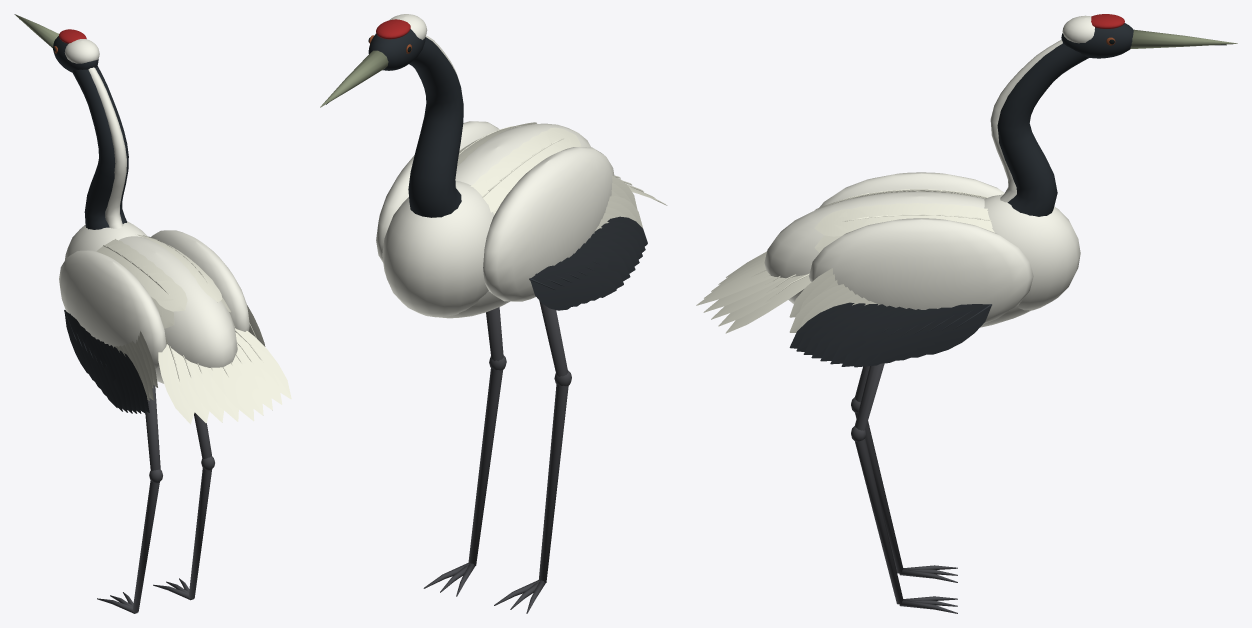
File: crane-standing.glb
The picture shows the model from 3 angles, left to right: view 1: azimuth 30°, elevation 25°; view 2: azimuth 150°, elevation 25°; view 3: azimuth 270°, elevation 25°; orthographic projection. The views are drawn at different scales.
Parts seen in each view (by area): view 1: Body.001_FeatherIvory, Body.001_CraneWhite, Shoulder_L.001_CraneWhite, Body.001_CraneLeg, Body.001_CraneCharcoal, Shoulder_L.001_FeatherBlack, Shoulder_R.001_CraneWhite, Shoulder_L.001_FeatherIvory, Body.001_CraneBill; view 2: Body.001_CraneWhite, Shoulder_L.001_CraneWhite, Body.001_CraneCharcoal, Body.001_CraneLeg, Shoulder_L.001_FeatherBlack, Body.001_FeatherIvory, Shoulder_R.001_CraneWhite, Shoulder_L.001_FeatherIvory, Body.001_CraneBill, Body.001_CraneCrown; view 3: Shoulder_R.001_CraneWhite, Body.001_CraneWhite, Shoulder_R.001_FeatherBlack, Body.001_FeatherIvory, Body.001_CraneCharcoal, Body.001_CraneLeg, Shoulder_L.001_CraneWhite, Shoulder_R.001_FeatherIvory, Body.001_CraneBill.
Part boxes in pixels (x1=…): Body.001_FeatherIvory: x1=96, y1=234, x2=291, y2=423; Body.001_CraneWhite: x1=64, y1=39, x2=237, y2=383; Shoulder_L.001_CraneWhite: x1=59, y1=250, x2=166, y2=368; Body.001_CraneLeg: x1=97, y1=385, x2=214, y2=613; Body.001_CraneCharcoal: x1=19, y1=19, x2=128, y2=229; Shoulder_L.001_FeatherBlack: x1=64, y1=310, x2=149, y2=413; Shoulder_R.001_CraneWhite: x1=151, y1=230, x2=249, y2=331; Shoulder_L.001_FeatherIvory: x1=113, y1=331, x2=157, y2=400; Body.001_CraneBill: x1=14, y1=14, x2=58, y2=48; Body.001_CraneWhite: x1=382, y1=14, x2=590, y2=318; Shoulder_L.001_CraneWhite: x1=483, y1=147, x2=614, y2=301; Body.001_CraneCharcoal: x1=326, y1=29, x2=463, y2=217; Body.001_CraneLeg: x1=423, y1=301, x2=571, y2=613; Shoulder_L.001_FeatherBlack: x1=529, y1=216, x2=647, y2=310; Body.001_FeatherIvory: x1=457, y1=122, x2=667, y2=214; Shoulder_R.001_CraneWhite: x1=376, y1=121, x2=499, y2=262; Shoulder_L.001_FeatherIvory: x1=594, y1=175, x2=642, y2=233; Body.001_CraneBill: x1=320, y1=50, x2=388, y2=107; Body.001_CraneCrown: x1=376, y1=19, x2=410, y2=39; Shoulder_R.001_CraneWhite: x1=809, y1=218, x2=1033, y2=323; Body.001_CraneWhite: x1=764, y1=15, x2=1094, y2=327; Shoulder_R.001_FeatherBlack: x1=789, y1=302, x2=991, y2=367; Body.001_FeatherIvory: x1=696, y1=189, x2=994, y2=333; Body.001_CraneCharcoal: x1=997, y1=23, x2=1226, y2=216; Body.001_CraneLeg: x1=851, y1=363, x2=957, y2=613; Shoulder_L.001_CraneWhite: x1=819, y1=172, x2=1004, y2=207; Shoulder_R.001_FeatherIvory: x1=789, y1=268, x2=879, y2=332; Body.001_CraneBill: x1=1130, y1=29, x2=1237, y2=49.
Bounding box in the file's own units: 0.6696 × 2.42 × 2.07.
